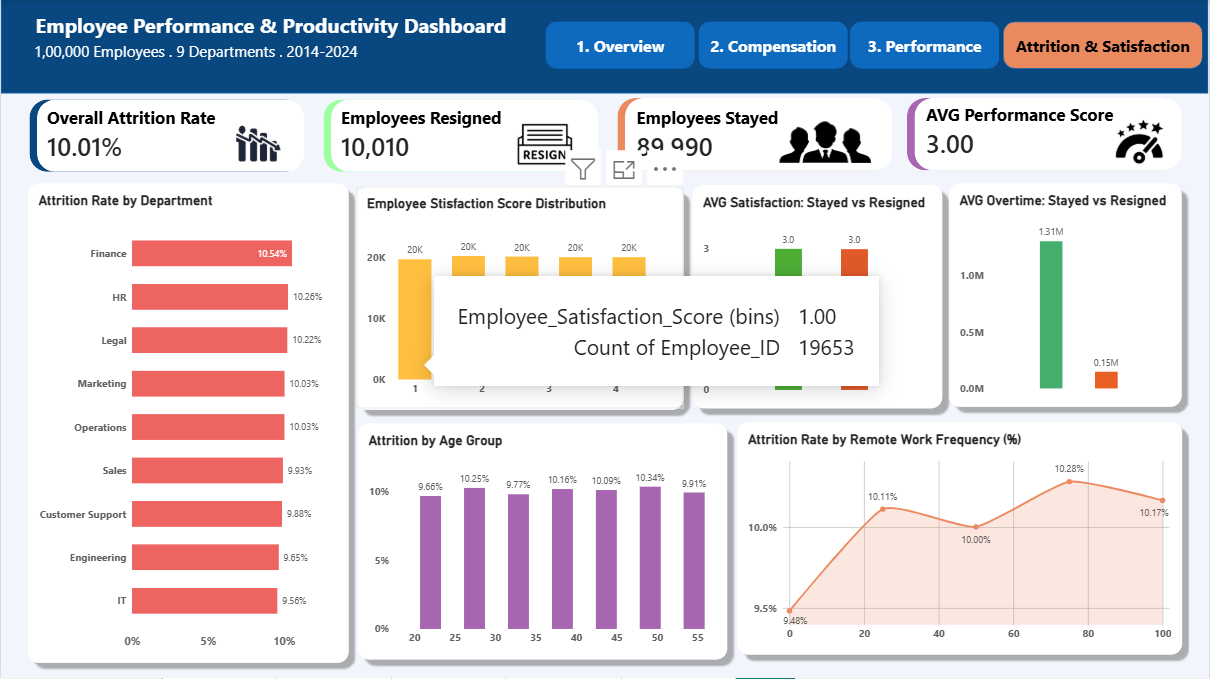

What the dashboard file says about the page in this screenshot:
{"tool":"powerbi","page":{"name":"Page 4","canvas":[1920,1080],"ordinal":3},"visuals":[{"type":"shape","box":[0,0,1920,150],"z":0},{"type":"shape","box":[45.7,159.6,435,115],"z":0,"group":"g1"},{"type":"textbox","box":[55,20,920,70],"z":1000},{"type":"shape","box":[58.2,159.6,425,115],"z":1000,"group":"g1"},{"type":"textbox","box":[52.5,67.5,827.5,80],"z":2000},{"type":"shape","box":[512.6,160,435,115],"z":2000,"group":"g1"},{"type":"shape","box":[866.2,35,237.5,75],"z":3000},{"type":"shape","box":[525.1,160,425,115],"z":3000,"group":"g1"},{"type":"shape","box":[1108.8,35,237.5,75],"z":4000},{"type":"shape","box":[980.2,158.2,435,115],"z":4000,"group":"g1"},{"type":"shape","box":[1351.2,35,237.5,75],"z":5000},{"type":"shape","box":[993.2,157.9,425,115],"z":5000,"group":"g1"},{"type":"shape","box":[1593.8,35,317.5,75],"z":6000},{"type":"shape","box":[1442.1,157.9,435,115],"z":6000,"group":"g1"},{"type":"group","id":"g1","title":"Group 1","box":[45.7,157.9,1833.9,117.1],"z":7000},{"type":"shape","box":[1454.6,157.9,425,115],"z":7000,"group":"g1"},{"type":"clusteredBarChart","title":"Attrition Rate by Department","fields":{"Category":["Extended_Employee_Performance_and_Productivity_Data.Department"],"Y":["Extended_Employee_Performance_and_Productivity_Data.Overall Attrition Rate"]},"box":[42.5,292.5,510,762.5],"z":8000},{"type":"cardVisual","fields":{"Data":["Extended_Employee_Performance_and_Productivity_Data.Average Performance Score"]},"box":[1455.8,135.8,410,150],"z":9000},{"type":"image","box":[1707.5,182.5,205,112.5],"z":10000},{"type":"cardVisual","fields":{"Data":["Extended_Employee_Performance_and_Productivity_Data.Resigned Employee"]},"box":[525,140,315,150],"z":11000},{"type":"cardVisual","fields":{"Data":["Extended_Employee_Performance_and_Productivity_Data.Overall Attrition Rate"]},"box":[57.5,140,315,150],"z":12000},{"type":"cardVisual","fields":{"Data":["Extended_Employee_Performance_and_Productivity_Data.Employees Stayed"]},"box":[995,140,315,150],"z":13000},{"type":"image","box":[807.5,165,117.5,132.5],"z":14000},{"type":"image","box":[1237.5,152.5,145,150],"z":15000},{"type":"image","box":[350,162.5,117.5,132.5],"z":16000},{"type":"columnChart","title":"Employee Stisfaction Score Distribution","fields":{"Y":["CountNonNull(Extended_Employee_Performance_and_Productivity_Data.Employee_ID)"],"Category":["Extended_Employee_Performance_and_Productivity_Data.Employee_Satisfaction_Score (bins)"]},"box":[565,297.5,520,355],"z":17000},{"type":"columnChart","title":"AVG Satisfaction: Stayed vs Resigned","fields":{"Y":["Avg(Extended_Employee_Performance_and_Productivity_Data.Employee_Satisfaction_Score)"],"Category":["Extended_Employee_Performance_and_Productivity_Data.Resigned"]},"box":[1100,295,397.5,355],"z":18000},{"type":"columnChart","title":"Attrition by Age Group","fields":{"Y":["Extended_Employee_Performance_and_Productivity_Data.Overall Attrition Rate"],"Category":["Extended_Employee_Performance_and_Productivity_Data.Age (bins)"]},"box":[567.5,675,587.5,375],"z":19000},{"type":"lineChart","title":"Attrition Rate by Remote Work Frequency (%)","fields":{"Category":["Extended_Employee_Performance_and_Productivity_Data.Remote_Work_Frequency"],"Y":["Extended_Employee_Performance_and_Productivity_Data.Overall Attrition Rate"]},"box":[1172.5,672.5,707.5,370],"z":20000},{"type":"columnChart","title":"AVG Overtime: Stayed vs Resigned","fields":{"Category":["Extended_Employee_Performance_and_Productivity_Data.Resigned"],"Y":["Sum(Extended_Employee_Performance_and_Productivity_Data.Overtime_Hours)"]},"box":[1507.5,292.5,370,355],"z":21000}]}

Visuals, with their boxes in screenshot pixels (x1, y1, x2, y2), scaled from the page's 1920x1080 canvas onto the 1210x679 screenshot:
shape: (left=0, top=0, right=1209, bottom=94)
shape: (left=29, top=100, right=303, bottom=173)
textbox: (left=35, top=13, right=614, bottom=57)
shape: (left=37, top=100, right=305, bottom=173)
textbox: (left=33, top=42, right=555, bottom=93)
shape: (left=323, top=101, right=597, bottom=173)
shape: (left=546, top=22, right=696, bottom=69)
shape: (left=331, top=101, right=599, bottom=173)
shape: (left=699, top=22, right=848, bottom=69)
shape: (left=618, top=99, right=892, bottom=172)
shape: (left=852, top=22, right=1001, bottom=69)
shape: (left=626, top=99, right=894, bottom=172)
shape: (left=1004, top=22, right=1205, bottom=69)
shape: (left=909, top=99, right=1183, bottom=172)
"Group 1" group: (left=29, top=99, right=1185, bottom=173)
shape: (left=917, top=99, right=1185, bottom=172)
"Attrition Rate by Department" clusteredBarChart: (left=27, top=184, right=348, bottom=663)
cardVisual - Extended_Employee_Performance_and_Productivity_Data.Average Performance Score: (left=917, top=85, right=1176, bottom=180)
image: (left=1076, top=115, right=1205, bottom=185)
cardVisual - Extended_Employee_Performance_and_Productivity_Data.Resigned Employee: (left=331, top=88, right=529, bottom=182)
cardVisual - Extended_Employee_Performance_and_Productivity_Data.Overall Attrition Rate: (left=36, top=88, right=235, bottom=182)
cardVisual - Extended_Employee_Performance_and_Productivity_Data.Employees Stayed: (left=627, top=88, right=826, bottom=182)
image: (left=509, top=104, right=583, bottom=187)
image: (left=780, top=96, right=871, bottom=190)
image: (left=221, top=102, right=295, bottom=185)
"Employee Stisfaction Score Distribution" columnChart: (left=356, top=187, right=684, bottom=410)
"AVG Satisfaction: Stayed vs Resigned" columnChart: (left=693, top=185, right=944, bottom=409)
"Attrition by Age Group" columnChart: (left=358, top=424, right=728, bottom=660)
"Attrition Rate by Remote Work Frequency (%)" lineChart: (left=739, top=423, right=1185, bottom=655)
"AVG Overtime: Stayed vs Resigned" columnChart: (left=950, top=184, right=1183, bottom=407)
